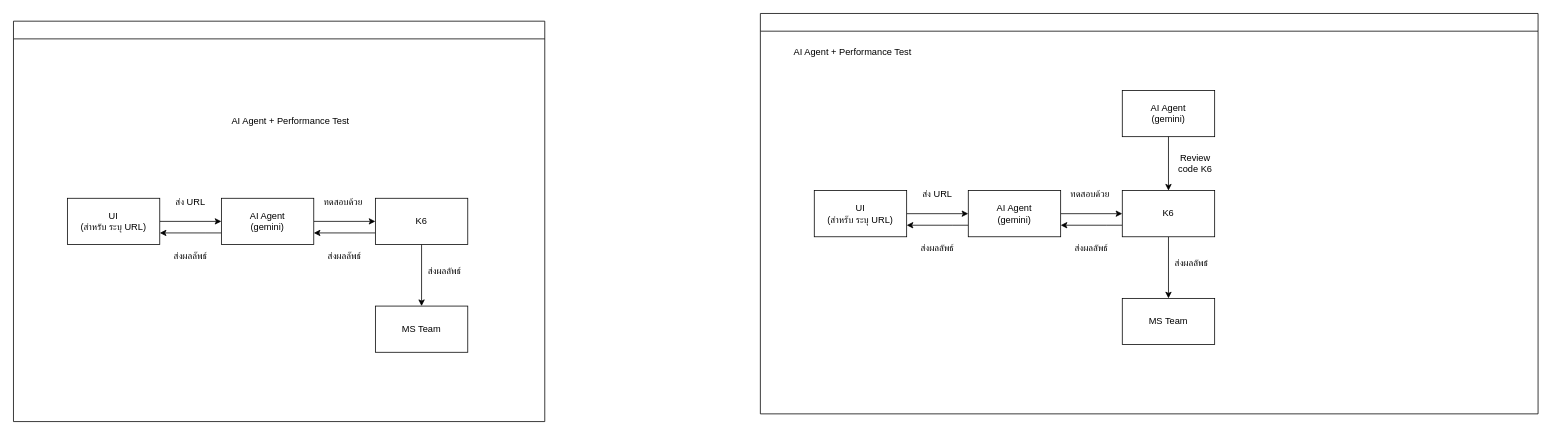
Image size: 1552x435. Some labels were removed from this diagram. Each missing label, with the box of its shape:
V1: (13, 20, 545, 422)
V2: (760, 13, 1538, 414)
